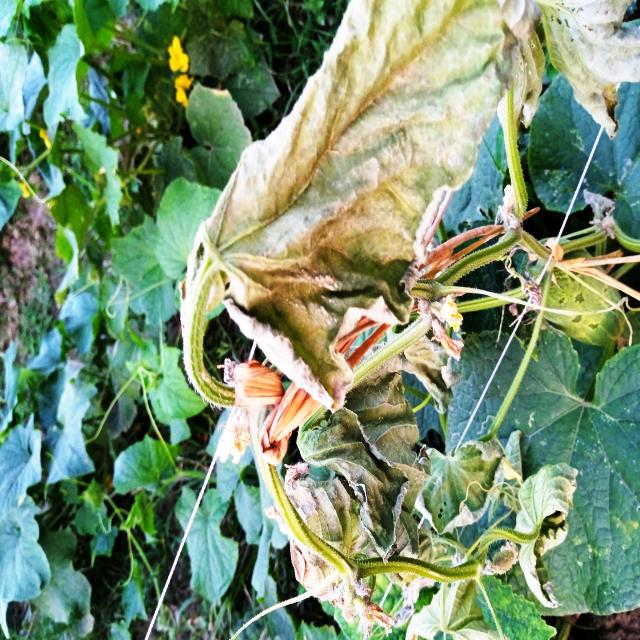Bacterial-Wilt: (171, 0, 539, 423), (295, 362, 435, 571), (514, 461, 583, 612), (412, 433, 510, 535)
